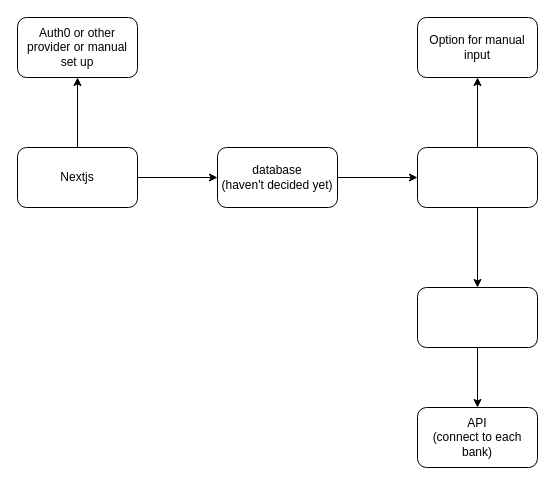
The diagram is 555 pixels wide and 485 high, and some of its shapes have lost their labels. Here are the shapes that lost their labels. From the top down, the centre of each, then its label:
At [477,177]: "Nodejs or Golang".
At [477,317]: "Stripe (possible premium features)".
